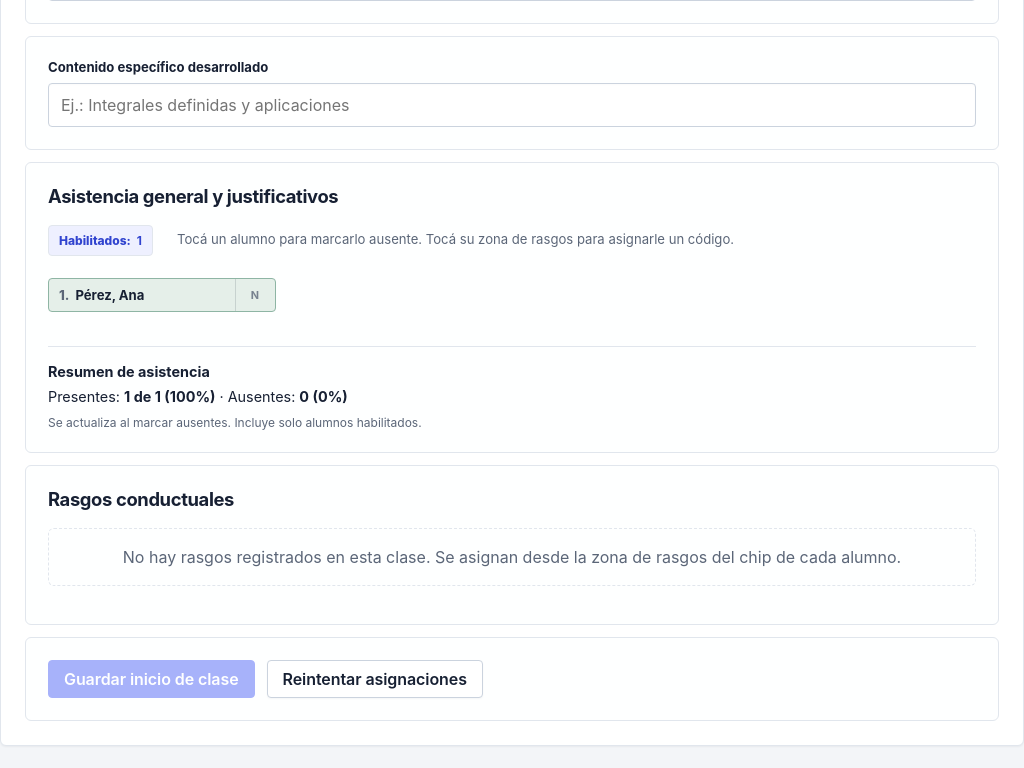
Inicio de clase › distingue un fallo de consulta y permite reintentar
The width and height of the screenshot is (1024, 768).
(page scrolled)
Click the button "Reintentar asignaciones" at (375, 679), box [267,660,483,698]
(page scrolled)
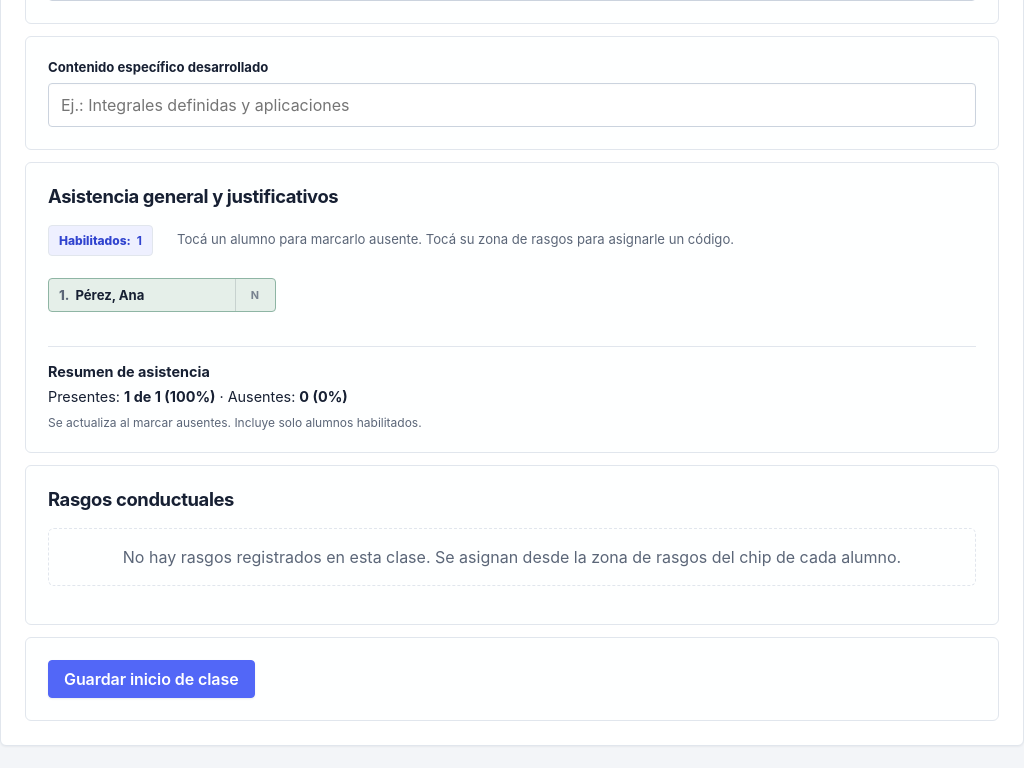
Now the button "Guardar inicio de clase" is enabled, box [48,660,255,698]
